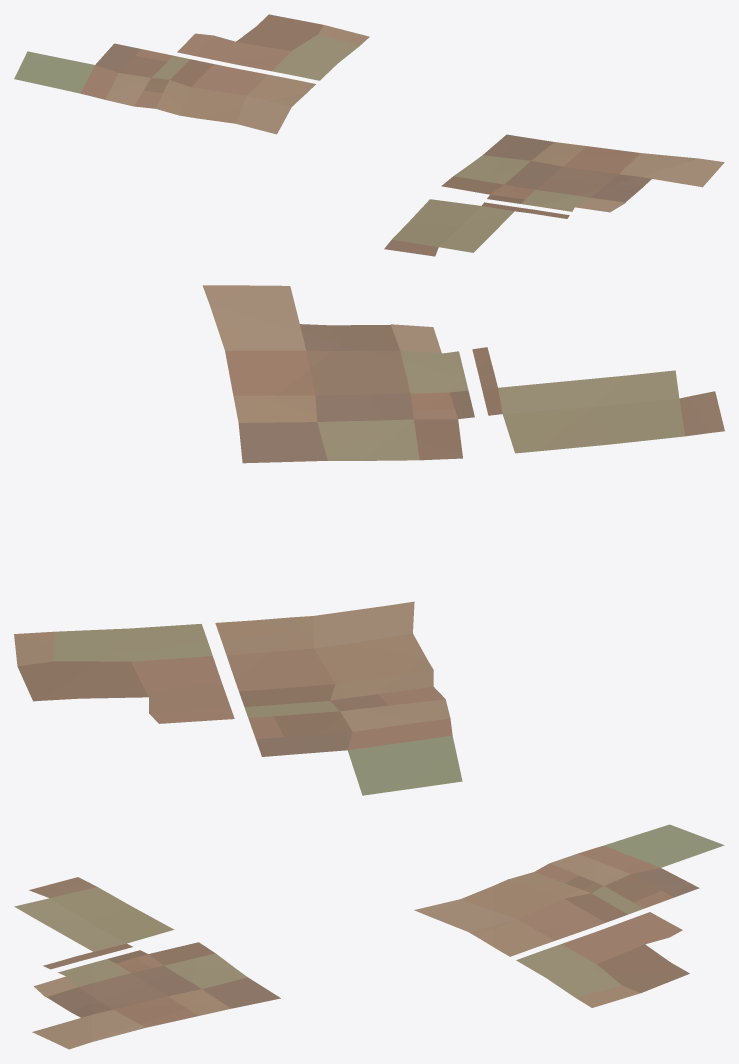
File: farm_27_17_soil.glb
The picture shows the model from 3 angles, top to bottom: view 1: azimuth 30°, elevation 25°; view 2: azimuth 150°, elevation 25°; view 3: azimuth 270°, elevation 25°; orthographic projection. The views are drawn at different scales.
Visible parts, largest first — view 1: geometry_0; view 2: geometry_0; view 3: geometry_0.
Part boxes in pixels (<box>): geometry_0: <box>14,14,724,256</box>; geometry_0: <box>14,285,724,795</box>; geometry_0: <box>14,824,724,1049</box>.
Size of the model in its own units: 444 by 19.06 by 566.
